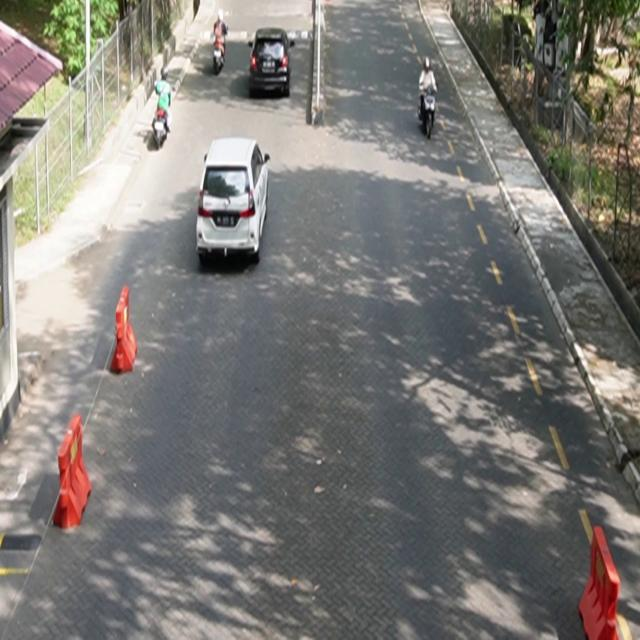car: (197, 137, 272, 264), (249, 28, 295, 98)
